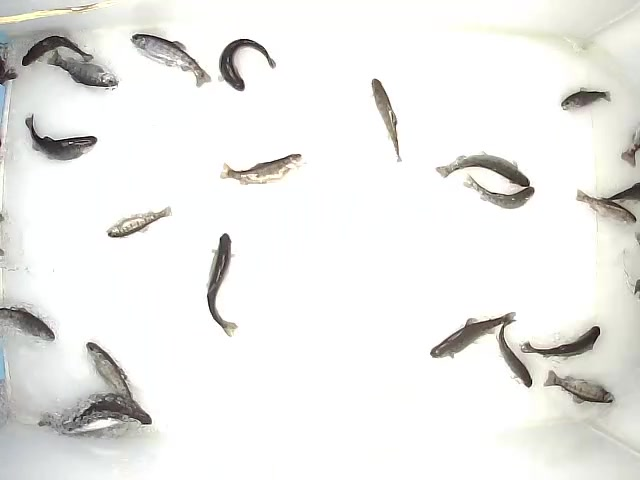fish: (130, 32, 213, 88), (37, 393, 153, 432), (85, 341, 136, 424), (430, 311, 517, 359), (434, 149, 531, 188), (24, 112, 98, 161), (205, 232, 238, 338), (217, 38, 277, 92), (217, 153, 307, 186), (46, 49, 120, 89), (521, 325, 601, 361), (462, 173, 536, 211), (496, 313, 533, 388), (371, 78, 403, 163), (542, 369, 615, 405), (21, 35, 94, 67), (106, 206, 173, 239), (576, 189, 637, 224), (1, 307, 57, 343), (560, 87, 612, 112)
